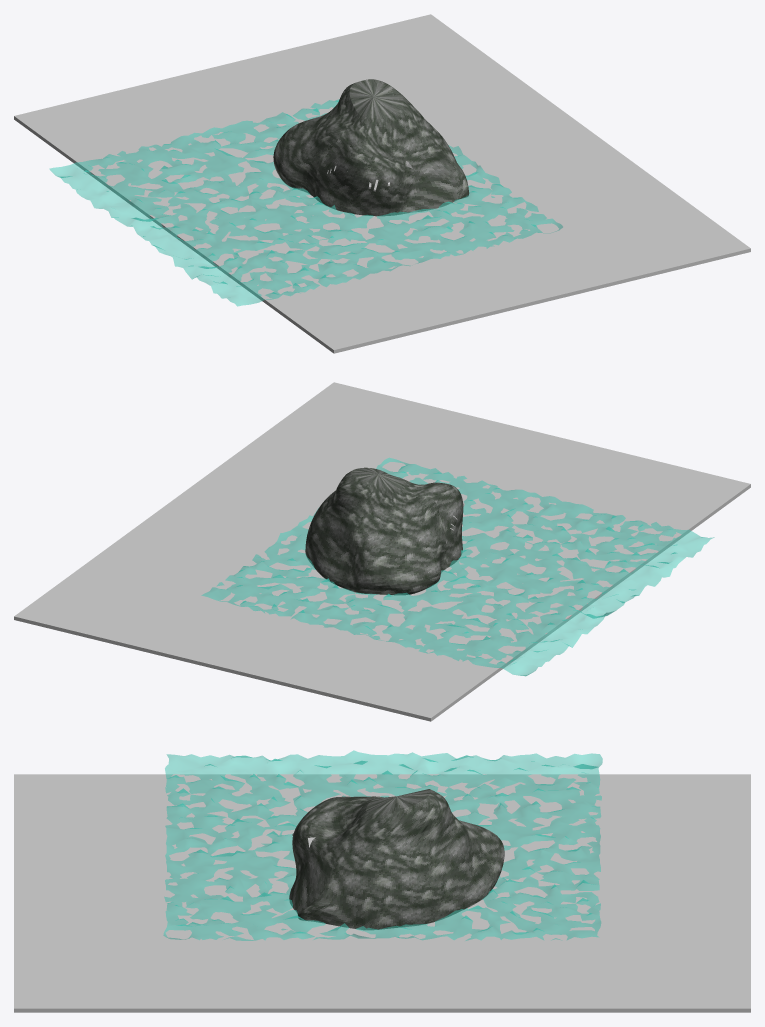
The model's file is pike.obj.
The picture shows the model from 3 angles, top to bottom: view 1: azimuth 30°, elevation 25°; view 2: azimuth 150°, elevation 25°; view 3: azimuth 270°, elevation 25°; orthographic projection. The views are drawn at different scales.
Visible parts, largest first — view 1: Cube, Plane.001_Plane.002, Sphere; view 2: Cube, Plane.001_Plane.002, Sphere; view 3: Cube, Plane.001_Plane.002, Sphere.
Part boxes in pixels (bbox=[...]): Cube: bbox=[14, 14, 750, 353]; Plane.001_Plane.002: bbox=[49, 99, 562, 306]; Sphere: bbox=[273, 79, 469, 216]; Cube: bbox=[14, 382, 750, 721]; Plane.001_Plane.002: bbox=[201, 457, 714, 676]; Sphere: bbox=[305, 467, 463, 595]; Cube: bbox=[14, 774, 750, 1012]; Plane.001_Plane.002: bbox=[163, 750, 602, 940]; Sphere: bbox=[289, 789, 504, 930].
Bounding box in the file's own units: 26784 × 8976 × 32993.
